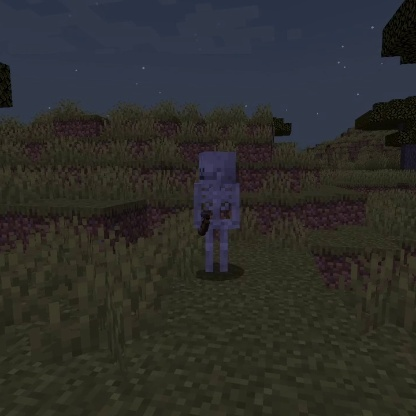skeleton: (187, 147, 245, 276)
